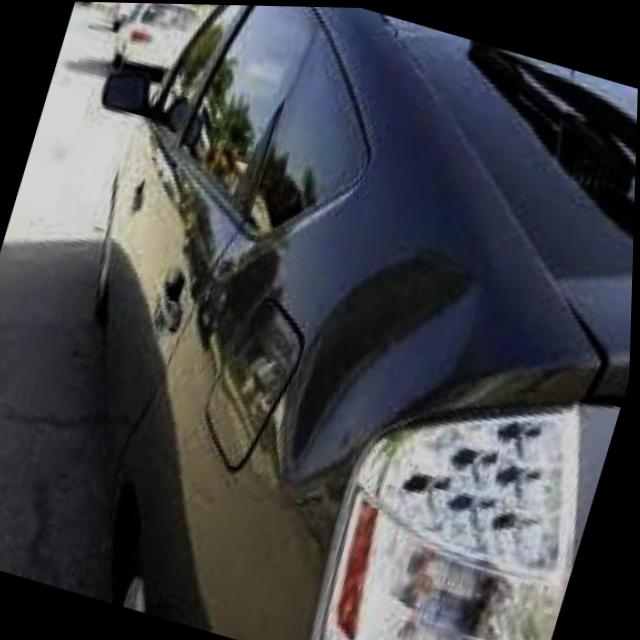Car-Damage: (260, 228, 514, 538)
